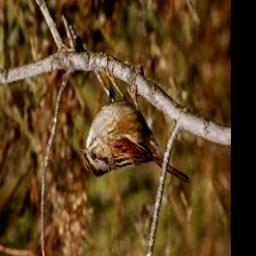Sparrow: (79, 57, 189, 183)
